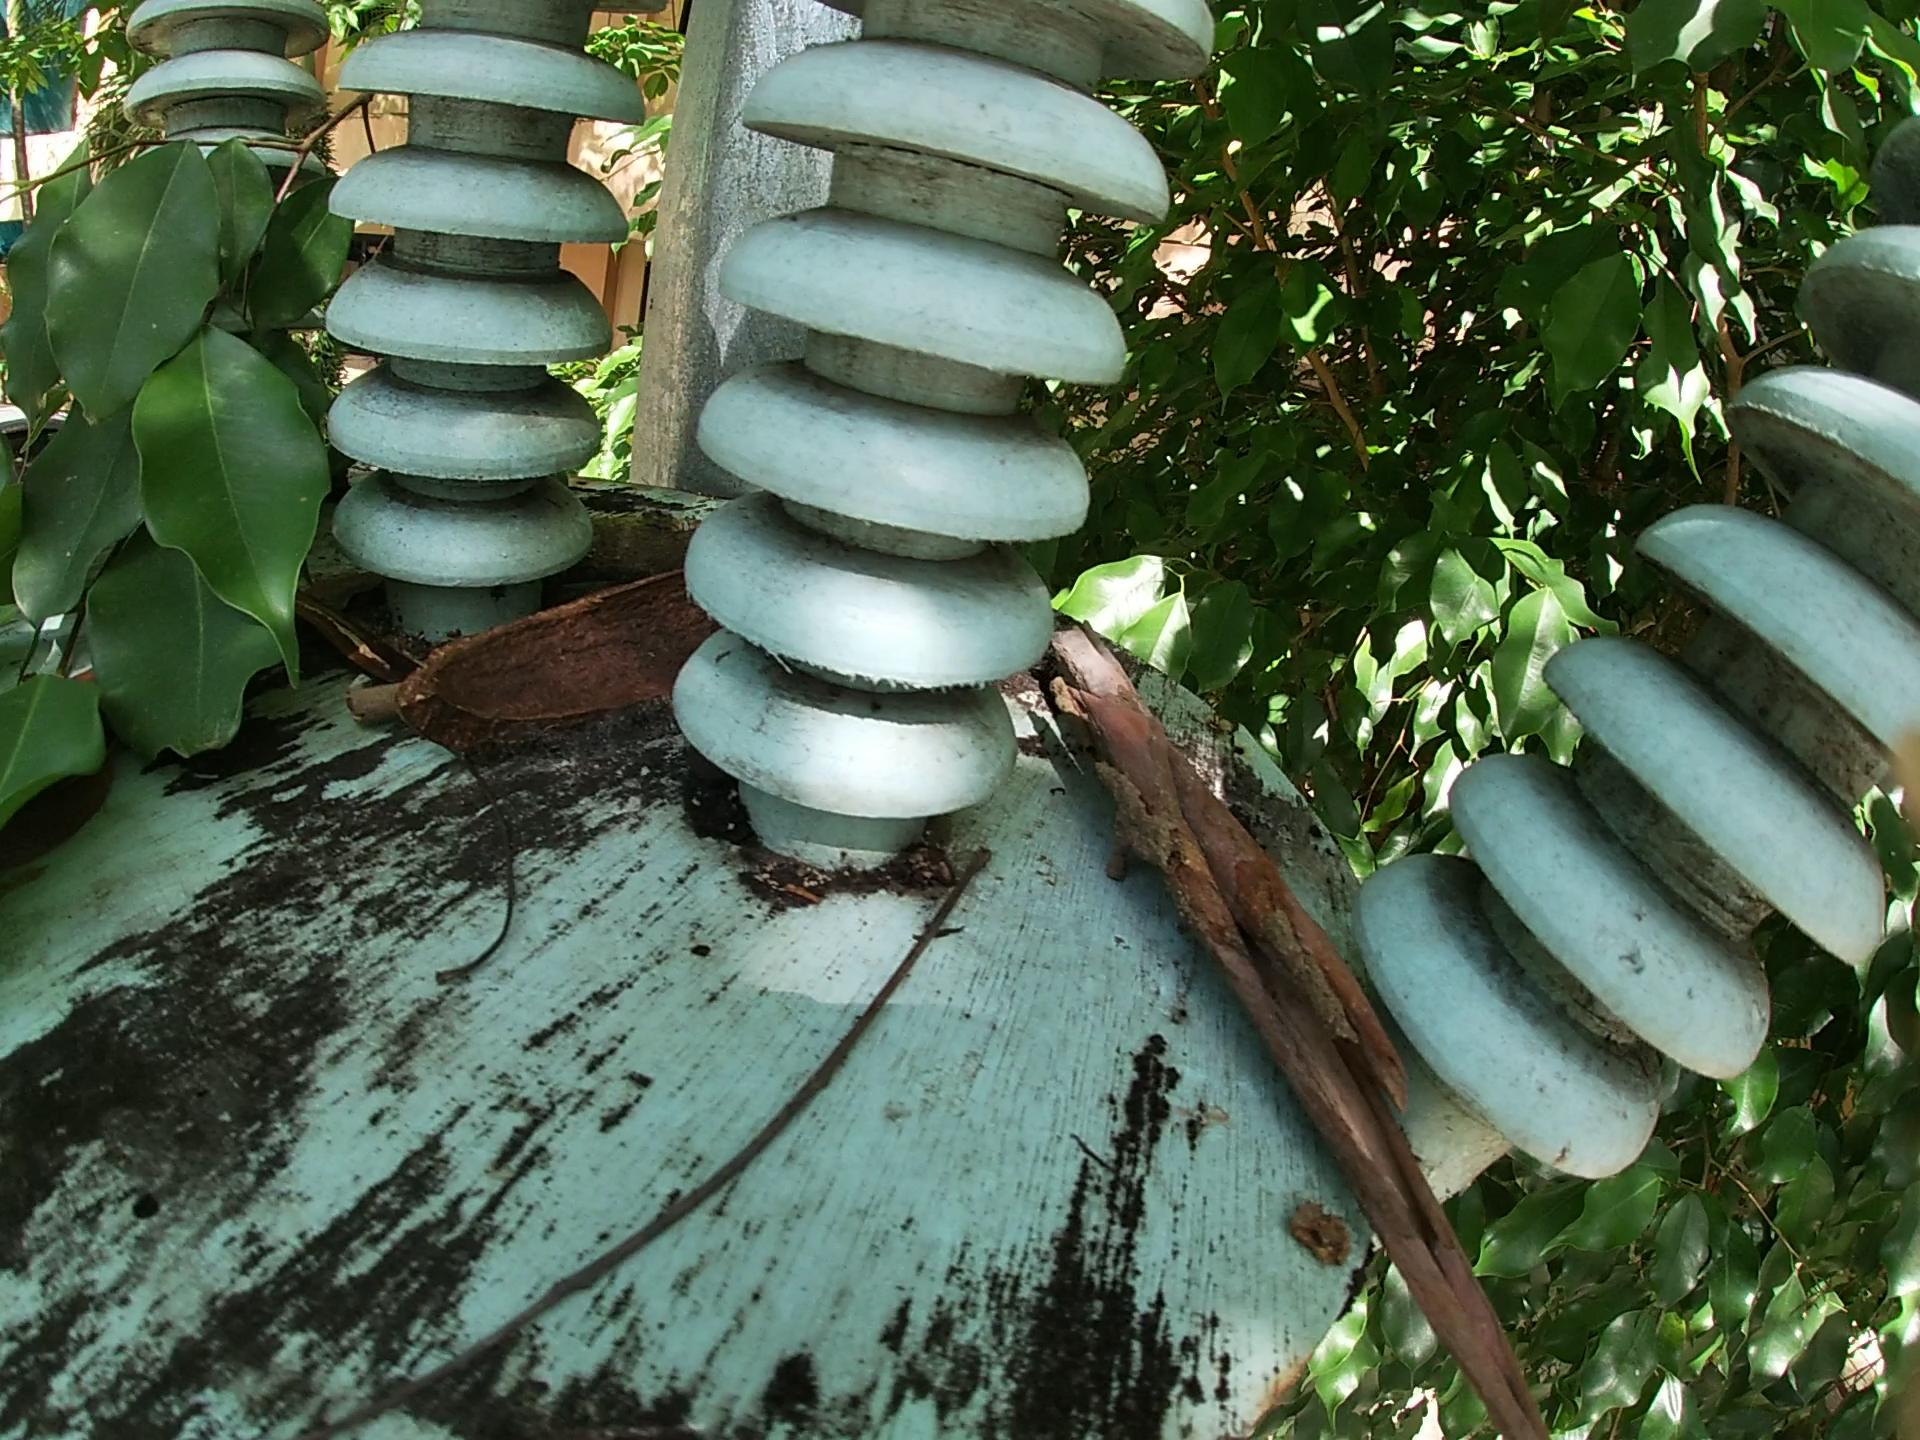branch with leaves: (2, 88, 389, 885)
leaf: (287, 594, 420, 681)
mahogany fruit: (392, 560, 756, 799)
tree branch: (1022, 608, 1628, 1440), (290, 830, 998, 1429), (416, 750, 538, 1013), (564, 504, 727, 563), (333, 693, 405, 740)
